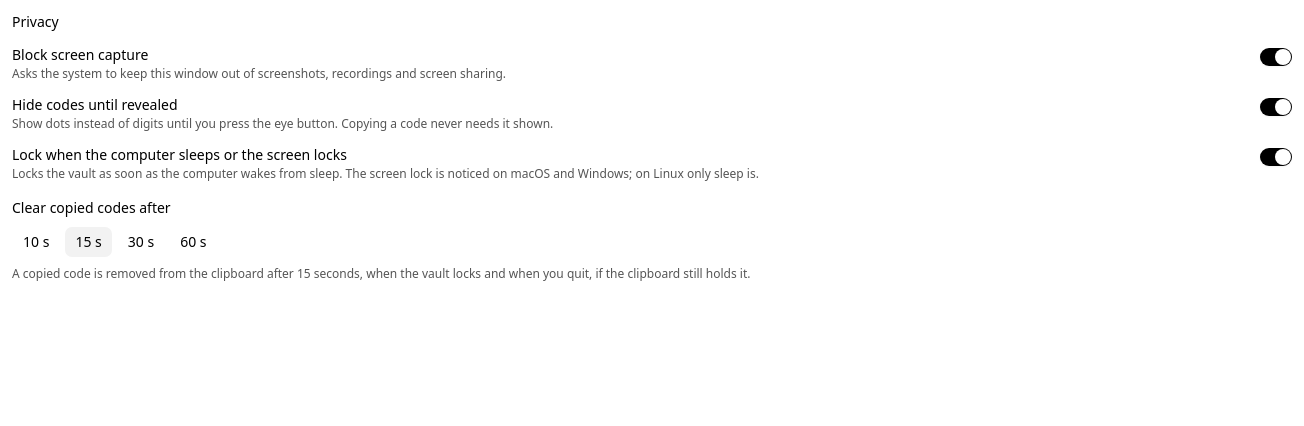
it: PrivacySettings capture protection confirmation › keeps protection on when Escape or Keep protection is chosen
Click the switch named "Block screen capture" in the row of "Block screen capture" at (1276, 57), box left=1260, top=48, right=1292, bottom=66
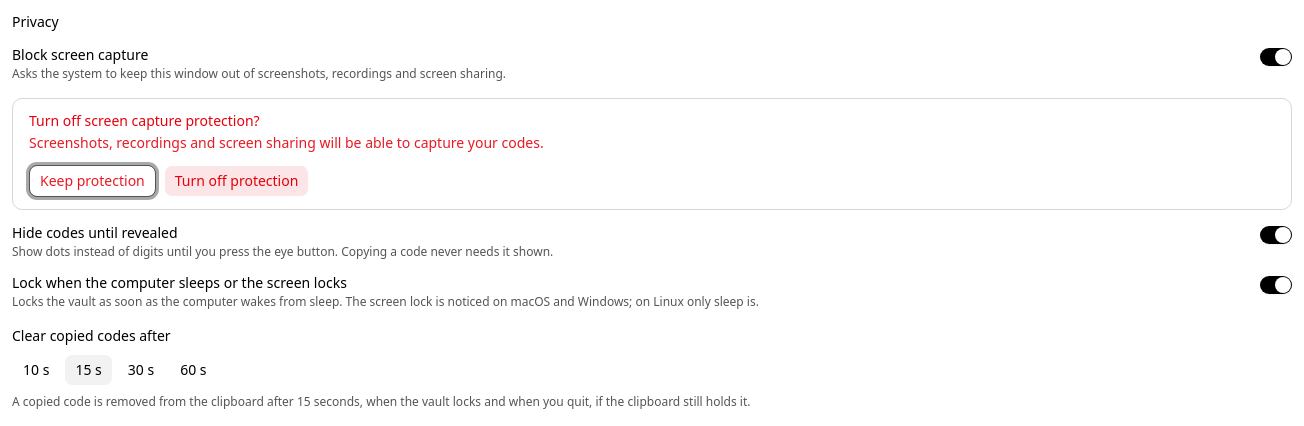
Press Escape in the button "Keep protection", box left=29, top=165, right=156, bottom=197
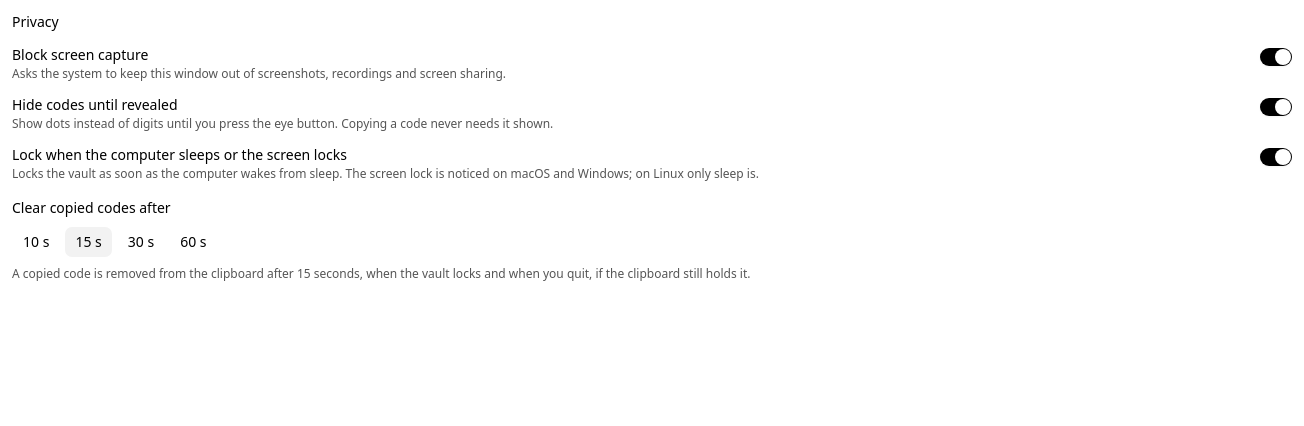
Now the text "Turn off screen capture protection?" is gone
